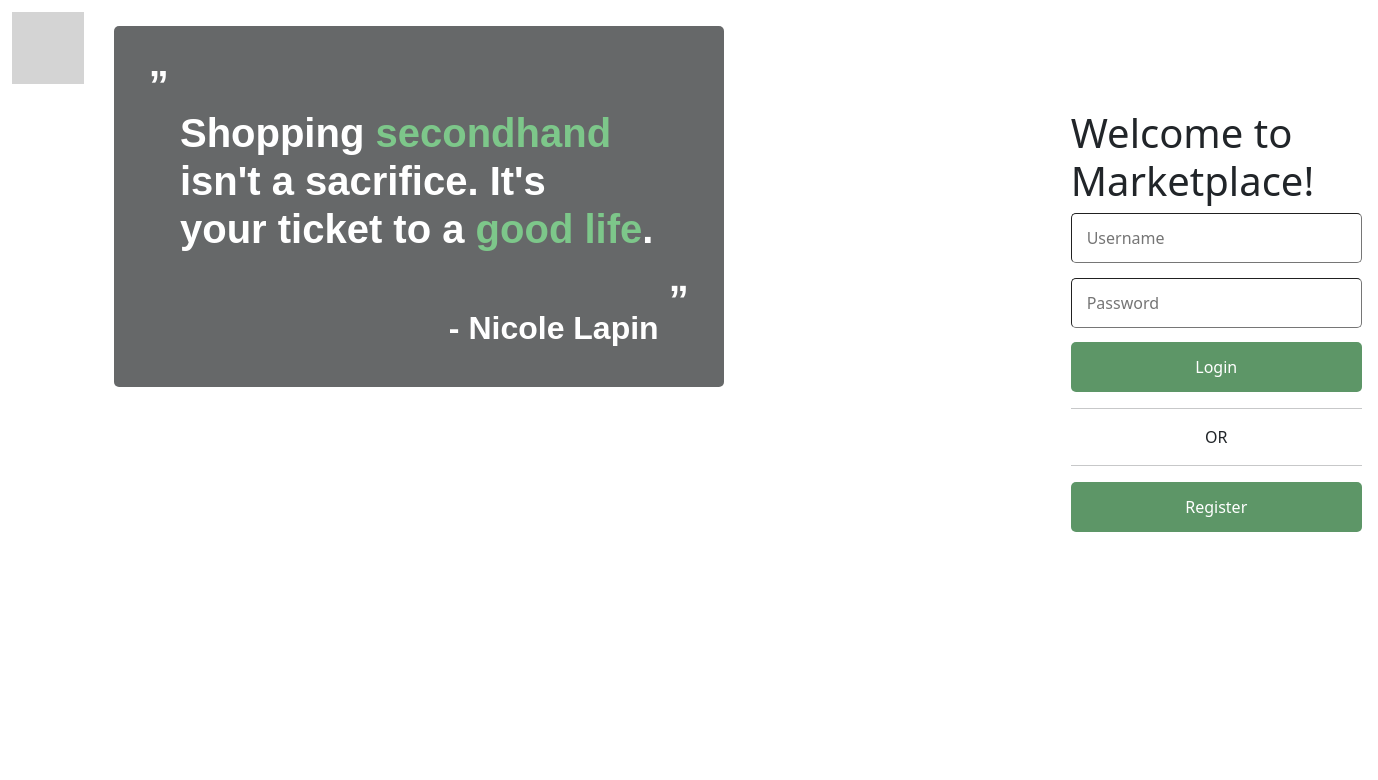
it: Test for "Wrong username or password" shows up when entering wrong credentials
# fire events that update state
Click the button with test id "loginButton". click: point(1216, 367)
box: [1071,342,1362,392]
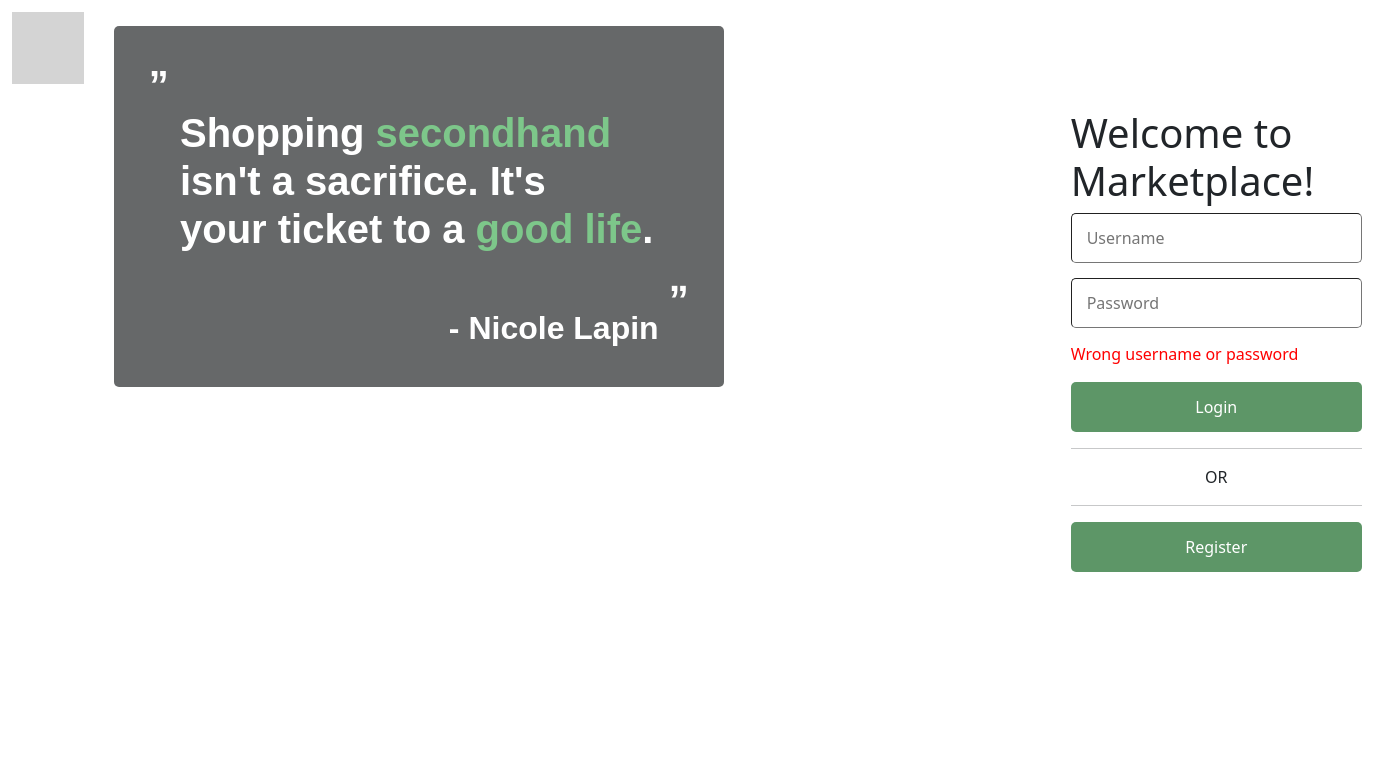
Expected: the text "Wrong username or password" is shown, [1071,343,1298,365]
